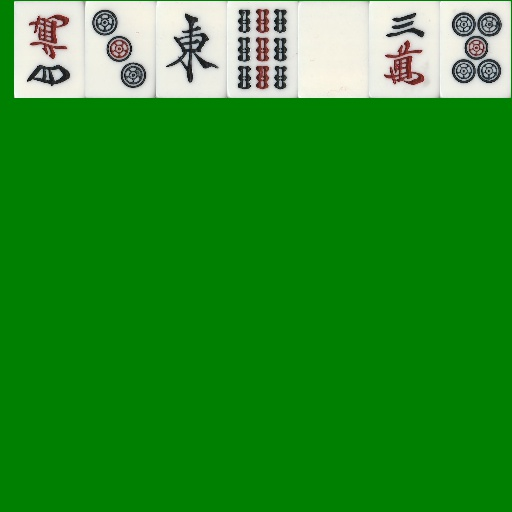3m: (369, 1, 440, 98)
3p: (85, 1, 156, 98)
4m: (14, 1, 85, 98)
5p: (440, 1, 511, 98)
9s: (227, 1, 298, 98)
east: (156, 1, 227, 98)
white: (298, 1, 369, 98)
